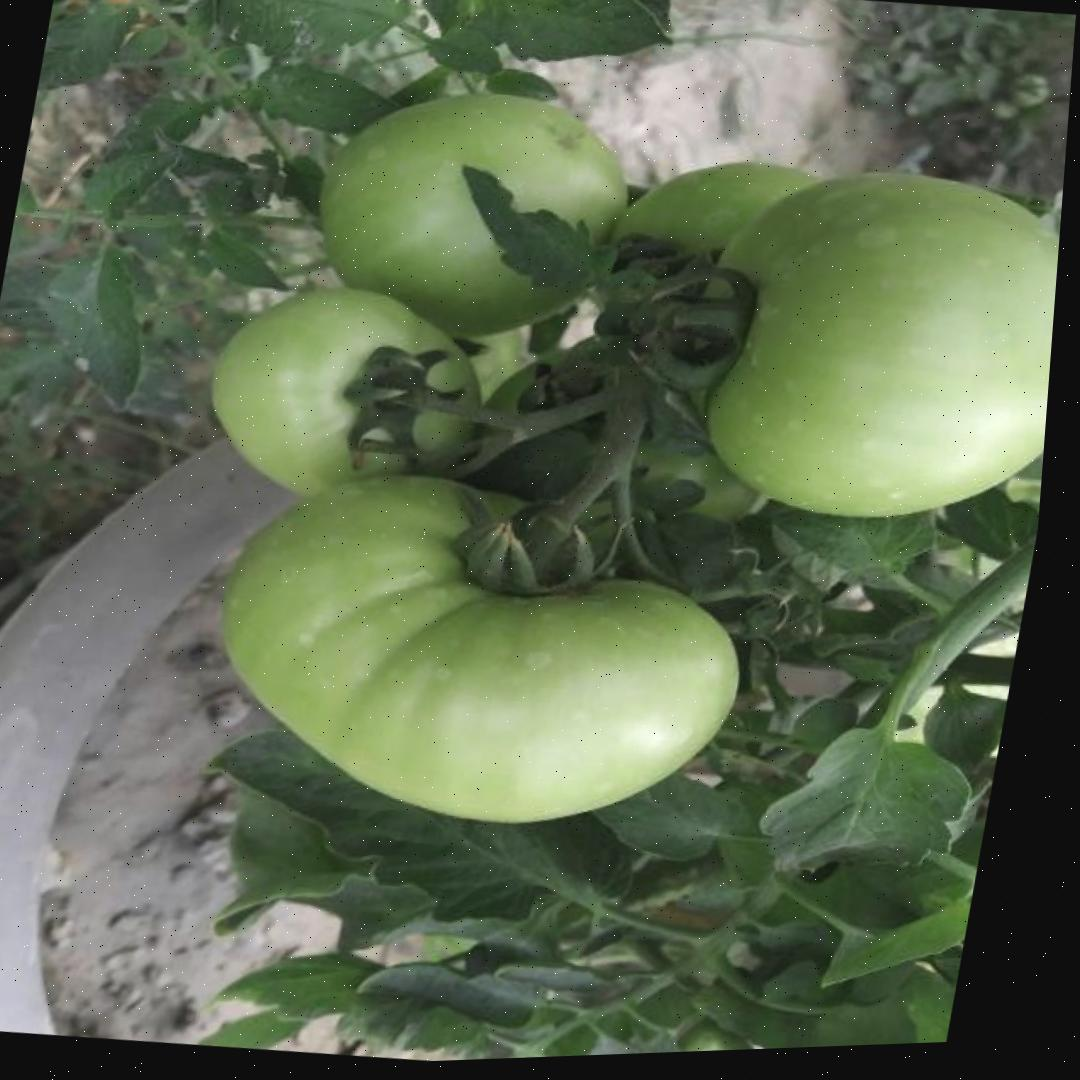mentah: (182, 439, 781, 860), (657, 146, 1066, 543), (293, 67, 658, 361), (185, 269, 509, 525)
